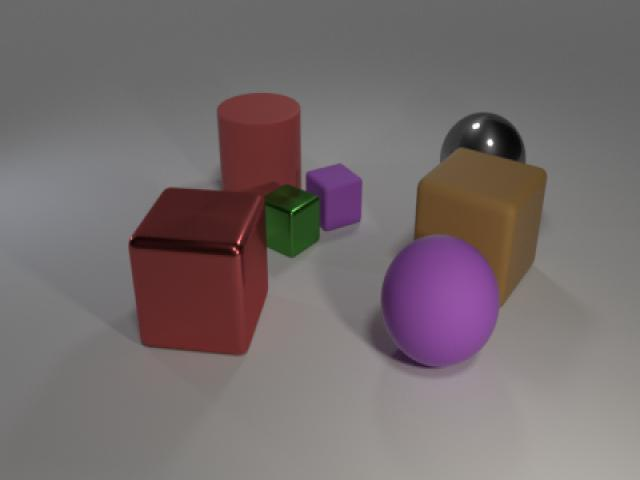cylinder: (210, 87, 306, 208)
round ball: (374, 227, 504, 372), (429, 107, 532, 172)
